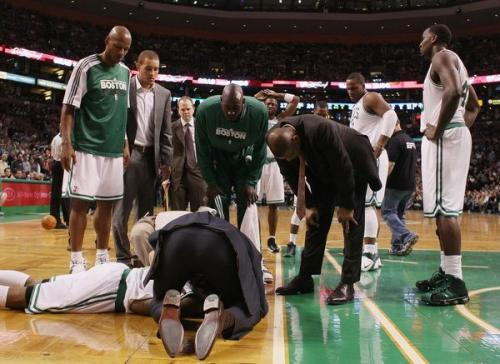10+: (1, 4, 500, 362)
down: (1, 256, 216, 320)
